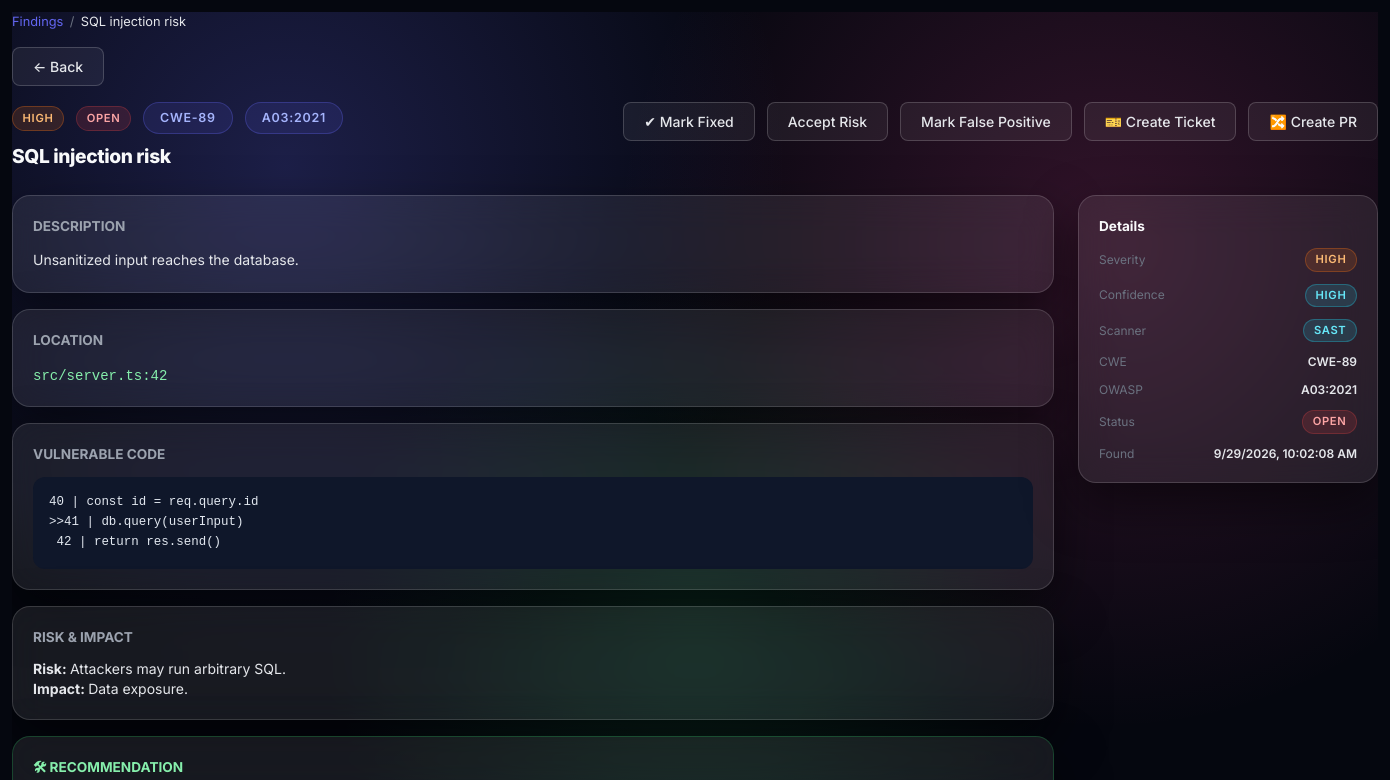
Test: FindingDetailPage › shows the API detail when ticket creation fails
Click the button "🎫 Create Ticket" at (1160, 122), box [1084,102,1236,141]
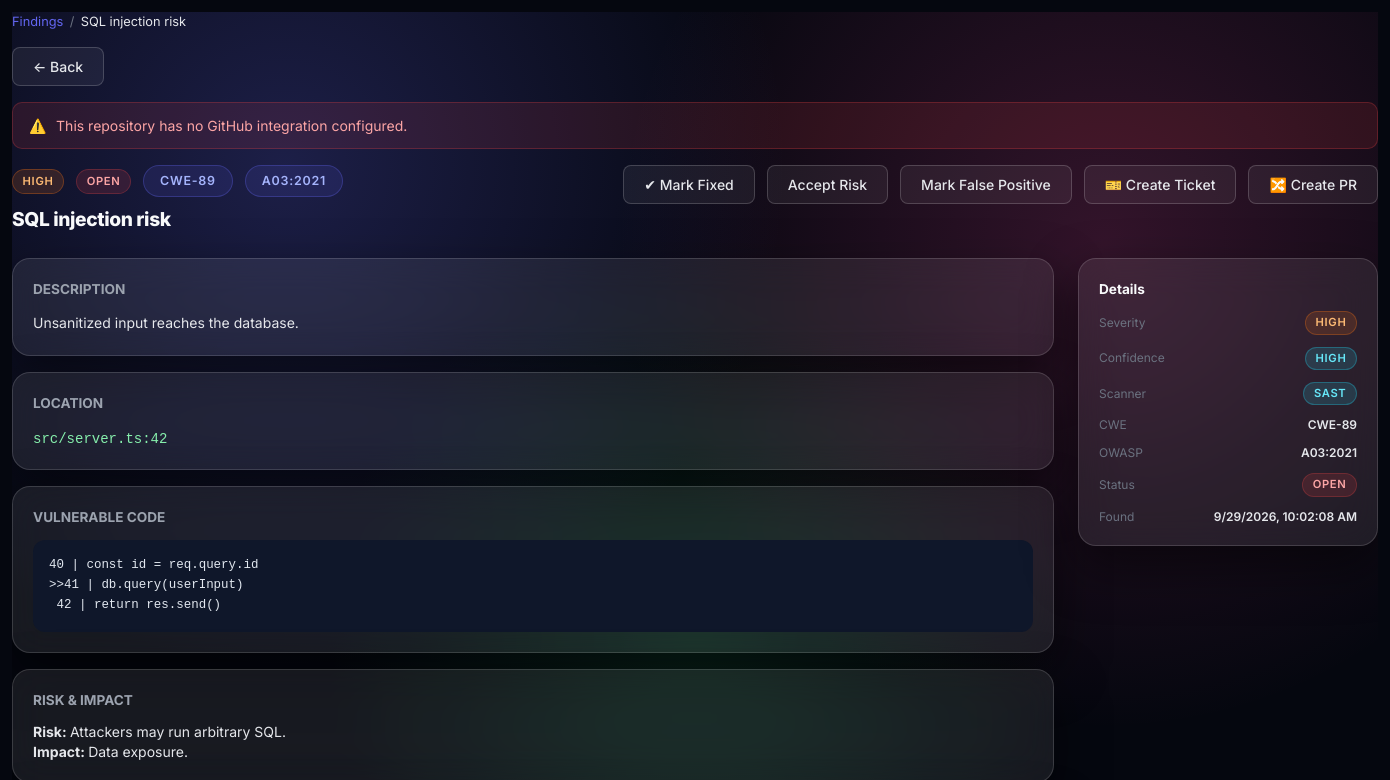
Result: the text "This repository has no GitHub integration configured." is shown at [56,115,407,136]
